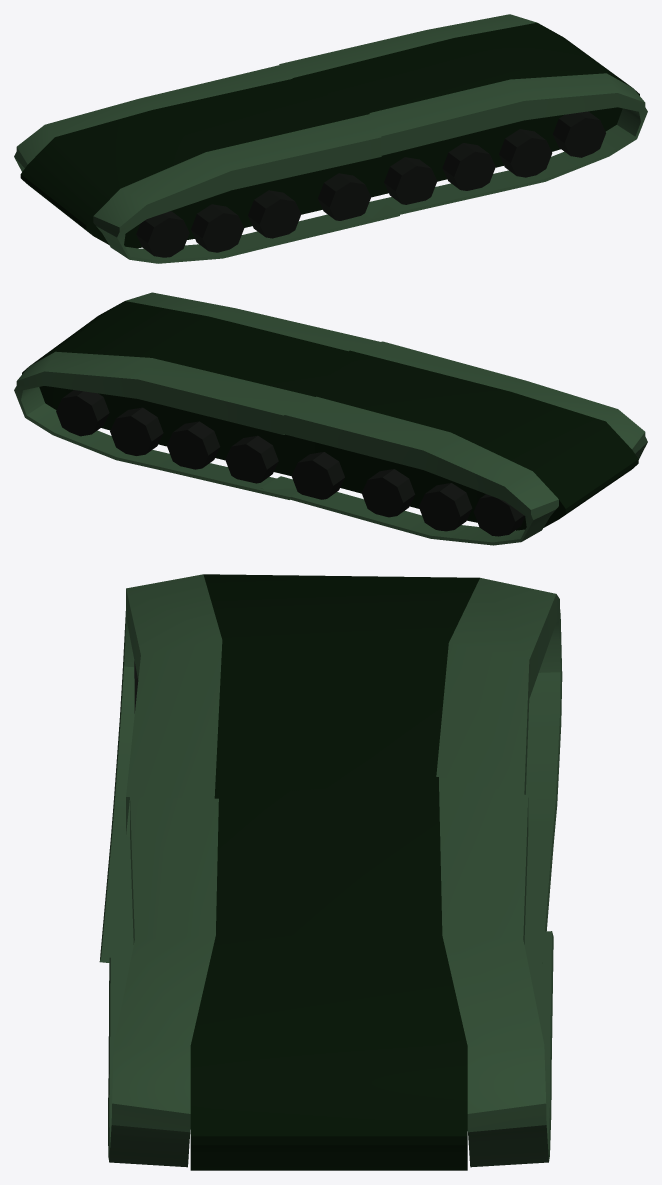
Rendered from TankBase.obj.
3 views of the same model, one above another, from view 1: azimuth 30°, elevation 25°; view 2: azimuth 150°, elevation 25°; view 3: azimuth 270°, elevation 25° (orthographic). The views are drawn at different scales.
Visible parts, largest first — view 1: pCube2, pCube1, pCylinder11, pCylinder15, pCylinder12, pCylinder14, pCylinder9, pCylinder13, pCylinder10, pCylinder16; view 2: pCube2, pCube1, pCylinder7, pCylinder2, pCylinder6, pCylinder3, pCylinder4, pCylinder5, pCylinder1, pCylinder8; view 3: pCube1, pCube2.
Part boxes in pixels (x1,y1,x2,y2): pCube2: (14,65,399,263); pCube1: (279,14,647,218); pCylinder11: (499,129,552,177); pCylinder15: (191,204,244,252); pCylinder12: (442,143,495,190); pCylinder14: (248,190,301,238); pCylinder9: (384,157,437,204); pCylinder13: (317,173,371,220); pCylinder10: (552,111,605,157); pCylinder16: (136,211,189,257); pCube2: (260,341,647,545); pCube1: (14,292,379,499); pCylinder7: (419,483,472,531); pCylinder2: (110,407,163,455); pCylinder6: (361,469,414,517); pCylinder3: (166,421,220,469); pCylinder4: (225,435,278,483); pCylinder5: (291,452,344,499); pCylinder1: (56,390,109,436); pCylinder8: (473,494,525,536); pCube1: (108,777,553,1170); pCube2: (99,574,562,964).
Bounding box in the file's own units: 6.79 × 1.03 × 2.47.
